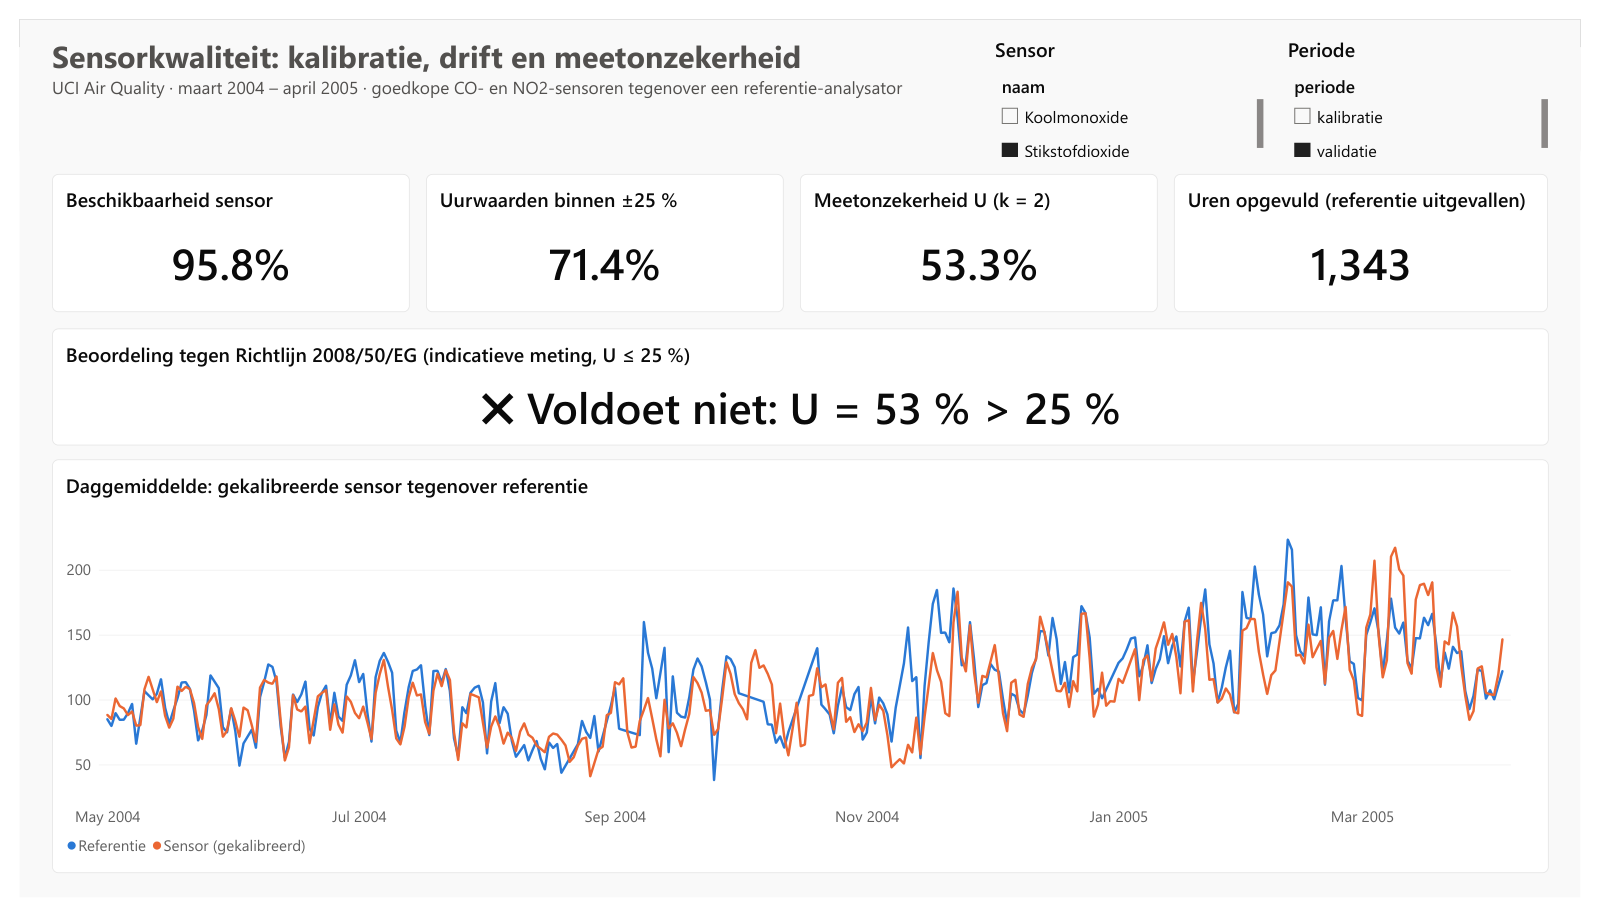

What the dashboard file says about the page in this screenshot:
{"tool":"powerbi","page":{"name":"Overzicht","canvas":[1920,1080],"ordinal":0},"visuals":[{"type":"textbox","box":[40,20,1120,130],"z":0},{"type":"slicer","title":"Sensor","fields":{"Values":["sensoren.naam"]},"box":[1200,20,330,150],"z":1000},{"type":"slicer","title":"Periode","fields":{"Values":["metingen.periode"]},"box":[1560,20,320,150],"z":2000},{"type":"card","title":"Beschikbaarheid sensor","fields":{"Values":["_Measures.Volledigheid sensor"]},"box":[40,190,440,170],"z":3000},{"type":"card","title":"Uurwaarden binnen ±25 %","fields":{"Values":["_Measures.% binnen DQO"]},"box":[500,190,440,170],"z":4000},{"type":"card","title":"Meetonzekerheid U (k = 2)","fields":{"Values":["_Measures.Uitgebreide onzekerheid U"]},"box":[960,190,440,170],"z":5000},{"type":"card","title":"Uren opgevuld (referentie uitgevallen)","fields":{"Values":["_Measures.Uren opgevuld door sensor"]},"box":[1420,190,460,170],"z":6000},{"type":"card","title":"Beoordeling tegen Richtlijn 2008/50/EG (indicatieve meting, U ≤ 25 %)","fields":{"Values":["_Measures.DQO-status"]},"box":[40.3,379.5,1840.5,144.4],"z":7000},{"type":"lineChart","title":"Daggemiddelde: gekalibreerde sensor tegenover referentie","fields":{"Category":["metingen.datum"],"Y":["Avg(metingen.referentie)","Avg(metingen.gekalibreerd_herkalibratie)"]},"box":[40.3,540.7,1840.5,508.8],"z":8000}]}

Visuals, with their boxes in screenshot pixels (x1, y1, x2, y2), scaled from the page's 1920x1080 canvas onto the 1600x918 screenshot:
textbox: select_region(33, 17, 967, 128)
"Sensor" slicer: select_region(1000, 17, 1275, 144)
"Periode" slicer: select_region(1300, 17, 1567, 144)
"Beschikbaarheid sensor" card: select_region(33, 162, 400, 306)
"Uurwaarden binnen ±25 %" card: select_region(417, 162, 783, 306)
"Meetonzekerheid U (k = 2)" card: select_region(800, 162, 1167, 306)
"Uren opgevuld (referentie uitgevallen)" card: select_region(1183, 162, 1567, 306)
"Beoordeling tegen Richtlijn 2008/50/EG (indicatieve meting, U ≤ 25 %)" card: select_region(34, 323, 1567, 445)
"Daggemiddelde: gekalibreerde sensor tegenover referentie" lineChart: select_region(34, 460, 1567, 892)
